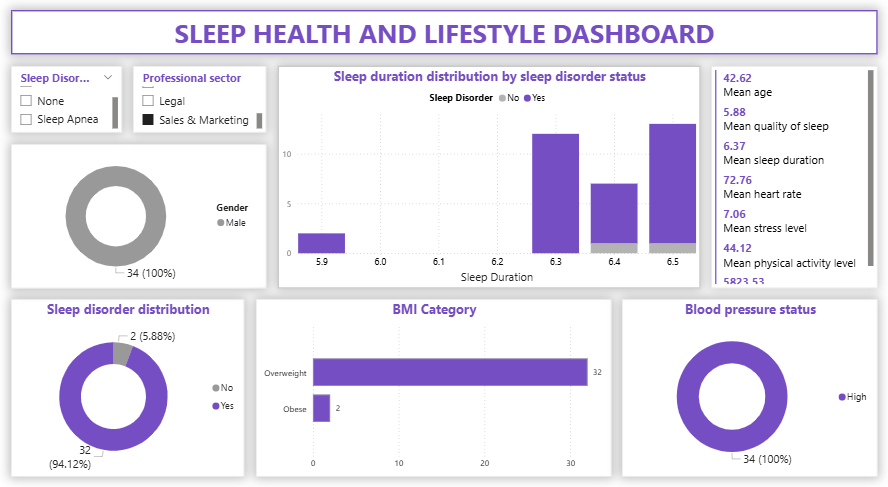

The dashboard page shown, as its layout file describes it:
{"tool":"powerbi","page":{"name":"Page 1","canvas":[1280,720],"ordinal":0},"visuals":[{"type":"textbox","box":[16,32,1248,64],"z":0},{"type":"donutChart","title":"Sleep disorder distribution","fields":{"Y":["CountNonNull(sleep_dataset_cleaned.Column1)"],"Category":["sleep_dataset_cleaned.Sleep_Disorder_Flag"]},"box":[16,448,336,256],"z":1000},{"type":"donutChart","title":"Gender distribution","fields":{"Category":["sleep_dataset_cleaned.Gender"],"Y":["CountNonNull(sleep_dataset_cleaned.Column1)"]},"box":[16,224,368,208],"z":2000},{"type":"slicer","fields":{"Values":["sleep_dataset_cleaned.Sleep Disorder"]},"box":[16,112,160,96],"z":3000},{"type":"slicer","fields":{"Values":["sleep_dataset_cleaned.Occupation_Group"]},"box":[192,112,192,96],"z":4000},{"type":"barChart","title":"BMI Category","fields":{"Category":["sleep_dataset_cleaned.BMI Category"],"Y":["CountNonNull(sleep_dataset_cleaned.Column1)"]},"box":[368,448,512,256],"z":5000},{"type":"donutChart","title":"Blood pressure status","fields":{"Y":["CountNonNull(sleep_dataset_cleaned.Column1)"],"Category":["sleep_dataset_cleaned.BP_Category"]},"box":[896,448,368,256],"z":6000},{"type":"multiRowCard","fields":{"Values":["Avg(sleep_dataset_cleaned.Age)","Avg(sleep_dataset_cleaned.Quality of Sleep)","Avg(sleep_dataset_cleaned.Sleep Duration)","Avg(sleep_dataset_cleaned.Heart Rate)","Avg(sleep_dataset_cleaned.Stress Level)","Avg(sleep_dataset_cleaned.Physical Activity Level)","Avg(sleep_dataset_cleaned.Daily Steps)"]},"box":[1024,112,240,320],"z":7000},{"type":"columnChart","title":"Sleep duration distribution by sleep disorder status","fields":{"Category":["sleep_dataset_cleaned.Sleep Duration"],"Y":["CountNonNull(sleep_dataset_cleaned.Person ID)"],"Series":["sleep_dataset_cleaned.Sleep_Disorder_Flag"]},"box":[400,112,608,320],"z":8000}]}

Visuals, with their boxes in screenshot pixels (x1, y1, x2, y2), scaled from the page's 1280x720 canvas onto the 888x487 screenshot:
textbox: crop(11, 22, 877, 65)
"Sleep disorder distribution" donutChart: crop(11, 303, 244, 476)
"Gender distribution" donutChart: crop(11, 152, 266, 292)
slicer - sleep_dataset_cleaned.Sleep Disorder: crop(11, 76, 122, 141)
slicer - sleep_dataset_cleaned.Occupation_Group: crop(133, 76, 266, 141)
"BMI Category" barChart: crop(255, 303, 610, 476)
"Blood pressure status" donutChart: crop(622, 303, 877, 476)
multiRowCard - Avg(sleep_dataset_cleaned.Age) x Avg(sleep_dataset_cleaned.Quality of Sleep): crop(710, 76, 877, 292)
"Sleep duration distribution by sleep disorder status" columnChart: crop(278, 76, 699, 292)
